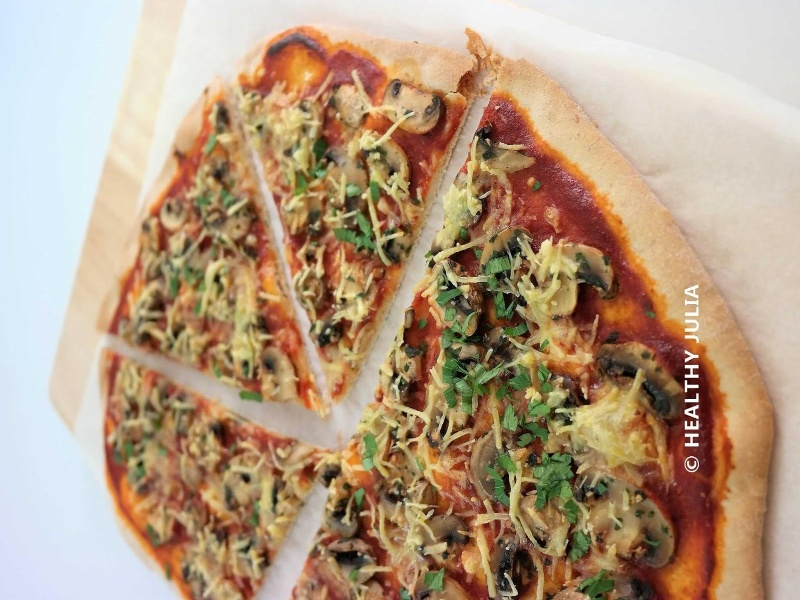champignon: (374, 75, 445, 139)
